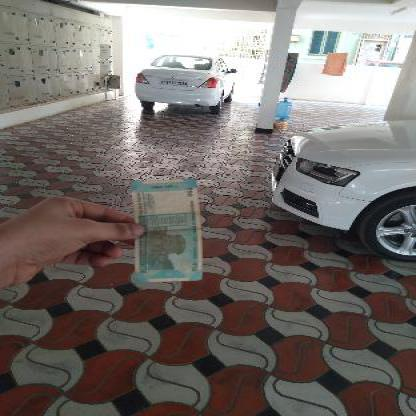New50Back: (133, 182, 203, 282)
